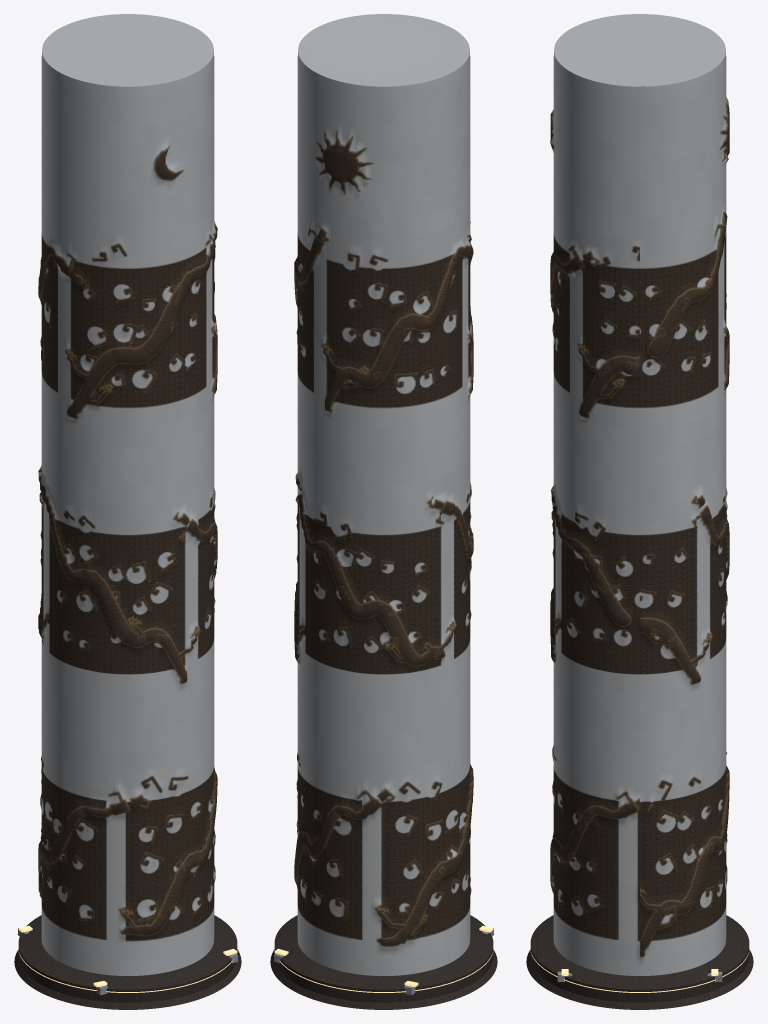
The model's file is dragon_pillar.glb.
3 views of the same model, side by side, from view 1: azimuth 30°, elevation 25°; view 2: azimuth 150°, elevation 25°; view 3: azimuth 270°, elevation 25° (orthographic).
Visible parts, largest first — view 1: Pillar_Column, Pillar_Plinth; view 2: Pillar_Column, Pillar_Plinth; view 3: Pillar_Column, Pillar_Plinth.
Part boxes in pixels (x1,y1,x2,y2): Pillar_Column: [38, 14, 217, 975]; Pillar_Plinth: [14, 915, 241, 1009]; Pillar_Column: [294, 14, 473, 975]; Pillar_Plinth: [270, 915, 497, 1009]; Pillar_Column: [550, 14, 729, 975]; Pillar_Plinth: [526, 915, 753, 1009].
Size of what is drawn, in the model's own units: 6.64 by 29.42 by 6.64.
Materials: 5 (3 with a texture image).
